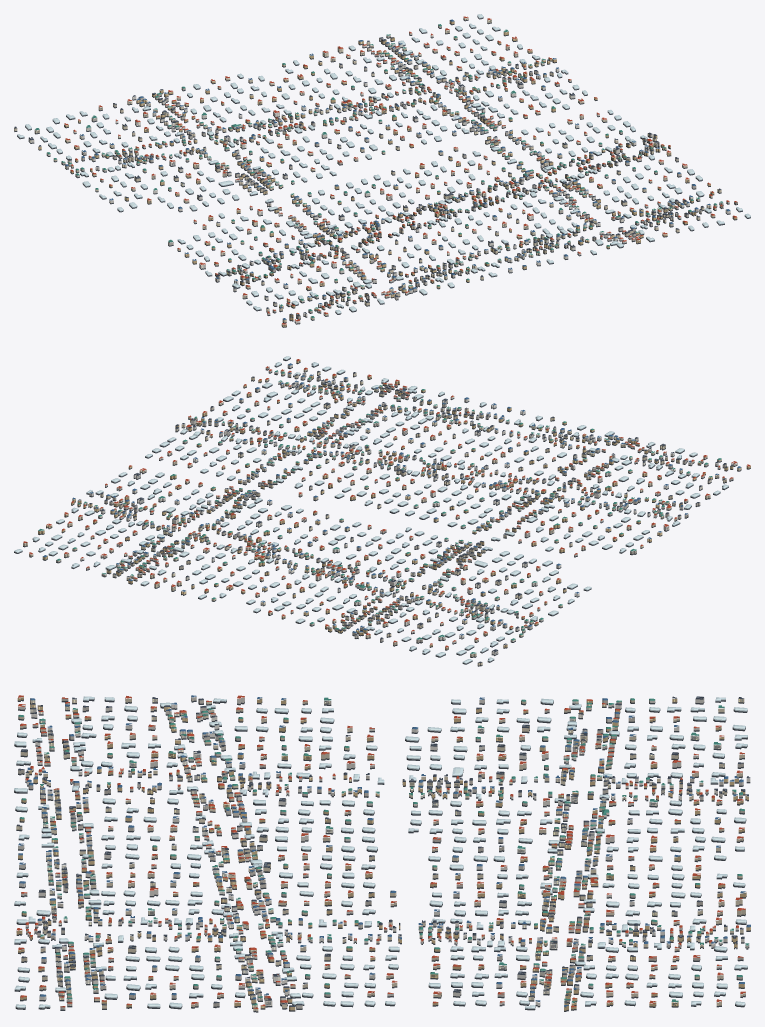
File: osm_buildings_T_W04_N00.glb
3 views of the same model, one above another, from view 1: azimuth 30°, elevation 25°; view 2: azimuth 150°, elevation 25°; view 3: azimuth 270°, elevation 25° (orthographic). The views are drawn at different scales.
Parts seen in each view (by area): view 1: OSM_T_W04_N00_foundation, OSM_T_W04_N00_greenhouse_blend, OSM_T_W04_N00_wall_cream_stucco, OSM_T_W04_N00_wall_french_ochre, OSM_T_W04_N00_wall_warm_white, OSM_T_W04_N00_wall_pastel_sand, OSM_T_W04_N00_roof_terracotta, OSM_T_W04_N00_roof_mansard_slate, OSM_T_W04_N00_roof_mint_metal, OSM_T_W04_N00_roof_alpine_blue; view 2: OSM_T_W04_N00_foundation, OSM_T_W04_N00_greenhouse_blend, OSM_T_W04_N00_wall_cream_stucco, OSM_T_W04_N00_wall_french_ochre, OSM_T_W04_N00_wall_warm_white, OSM_T_W04_N00_wall_pastel_sand, OSM_T_W04_N00_roof_terracotta, OSM_T_W04_N00_roof_mansard_slate, OSM_T_W04_N00_roof_mint_metal, OSM_T_W04_N00_roof_alpine_blue; view 3: OSM_T_W04_N00_foundation, OSM_T_W04_N00_greenhouse_blend, OSM_T_W04_N00_wall_cream_stucco, OSM_T_W04_N00_wall_french_ochre, OSM_T_W04_N00_wall_warm_white, OSM_T_W04_N00_roof_terracotta, OSM_T_W04_N00_wall_pastel_sand, OSM_T_W04_N00_roof_mansard_slate, OSM_T_W04_N00_roof_mint_metal, OSM_T_W04_N00_roof_alpine_blue, OSM_T_W04_N00_roof_mansard_deck.
Boxes of the visible parts, box(x1,y1,x2,y2) form: OSM_T_W04_N00_foundation: box(14, 16, 750, 327); OSM_T_W04_N00_greenhouse_blend: box(17, 14, 750, 313); OSM_T_W04_N00_wall_cream_stucco: box(14, 17, 723, 322); OSM_T_W04_N00_wall_french_ochre: box(38, 20, 737, 326); OSM_T_W04_N00_wall_warm_white: box(28, 35, 730, 323); OSM_T_W04_N00_wall_pastel_sand: box(61, 25, 737, 318); OSM_T_W04_N00_roof_terracotta: box(64, 16, 737, 324); OSM_T_W04_N00_roof_mansard_slate: box(14, 37, 721, 317); OSM_T_W04_N00_roof_mint_metal: box(35, 24, 722, 317); OSM_T_W04_N00_roof_alpine_blue: box(65, 19, 730, 319); OSM_T_W04_N00_foundation: box(14, 358, 750, 666); OSM_T_W04_N00_greenhouse_blend: box(14, 356, 728, 663); OSM_T_W04_N00_wall_cream_stucco: box(23, 368, 741, 665); OSM_T_W04_N00_wall_french_ochre: box(38, 360, 750, 649); OSM_T_W04_N00_wall_warm_white: box(80, 364, 737, 654); OSM_T_W04_N00_wall_pastel_sand: box(56, 366, 733, 642); OSM_T_W04_N00_roof_terracotta: box(23, 359, 750, 647); OSM_T_W04_N00_roof_mansard_slate: box(78, 371, 732, 662); OSM_T_W04_N00_roof_mint_metal: box(38, 370, 721, 653); OSM_T_W04_N00_roof_alpine_blue: box(43, 363, 740, 635); OSM_T_W04_N00_foundation: box(14, 698, 750, 1012); OSM_T_W04_N00_greenhouse_blend: box(14, 696, 747, 1008); OSM_T_W04_N00_wall_cream_stucco: box(16, 698, 745, 1011); OSM_T_W04_N00_wall_french_ochre: box(16, 697, 750, 1010); OSM_T_W04_N00_wall_warm_white: box(18, 697, 750, 1006); OSM_T_W04_N00_roof_terracotta: box(17, 695, 745, 1008); OSM_T_W04_N00_wall_pastel_sand: box(18, 696, 749, 1009); OSM_T_W04_N00_roof_mansard_slate: box(16, 696, 750, 1006); OSM_T_W04_N00_roof_mint_metal: box(18, 697, 749, 1005); OSM_T_W04_N00_roof_alpine_blue: box(18, 695, 750, 1006); OSM_T_W04_N00_roof_mansard_deck: box(21, 696, 744, 991).
Bounding box in the file's own units: 1906 × 30.21 × 1893.
